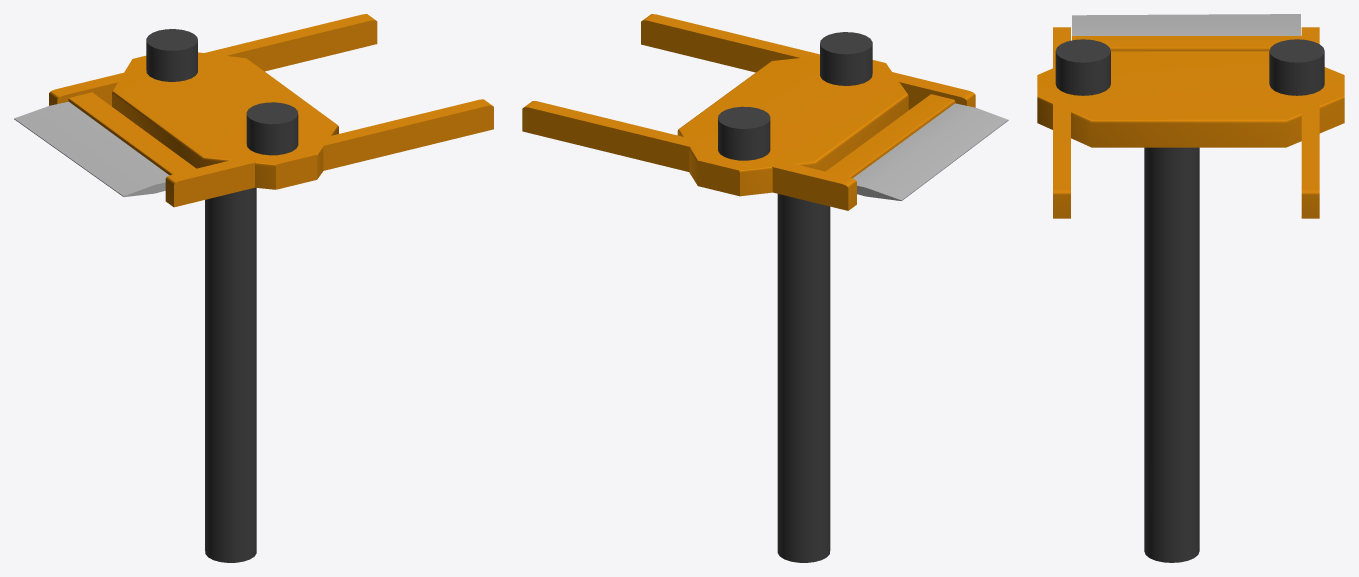
3 renders of one model, left to right at view 1: azimuth 30°, elevation 25°; view 2: azimuth 150°, elevation 25°; view 3: azimuth 270°, elevation 25°, orthographic. The views are drawn at different scales.
Parts seen in each view (by area): view 1: pCylinder40, polySurface30; view 2: pCylinder40, polySurface30; view 3: pCylinder40, polySurface30.
Boxes of the visible parts, x1=… form: pCylinder40: x1=112, y1=29, x2=338, y2=562; polySurface30: x1=14, y1=14, x2=493, y2=207; pCylinder40: x1=677, y1=32, x2=908, y2=562; polySurface30: x1=522, y1=14, x2=1008, y2=210; pCylinder40: x1=1037, y1=39, x2=1344, y2=562; polySurface30: x1=1053, y1=14, x2=1319, y2=218.
Size of the model in its own units: 4.44 by 5.47 by 3.05.
